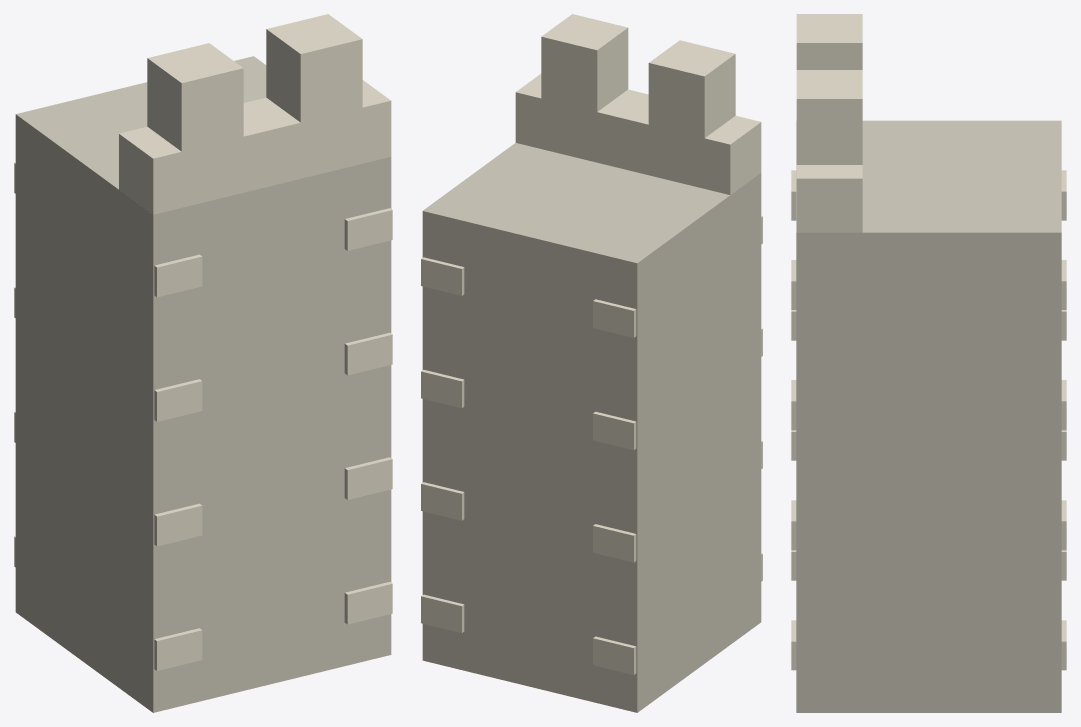
File: curtain-straight-2m.glb
The picture shows the model from 3 angles, left to right: view 1: azimuth 30°, elevation 25°; view 2: azimuth 150°, elevation 25°; view 3: azimuth 270°, elevation 25°; orthographic projection. The views are drawn at different scales.
Visible parts, largest first — view 1: curtain-straight-2m; view 2: curtain-straight-2m; view 3: curtain-straight-2m.
Part boxes in pixels (x1,y1,x2,y2): curtain-straight-2m: (14,14,392,712); curtain-straight-2m: (421,14,762,712); curtain-straight-2m: (791,14,1066,712).
Bounding box in the file's own units: 2 × 5 × 2.08.
